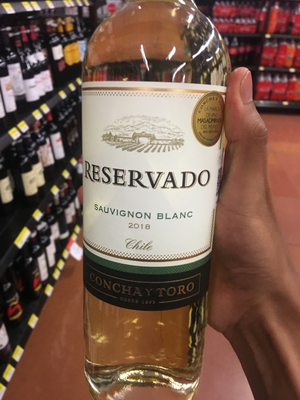reservado sauvignon blanc: (78, 17, 228, 400)
